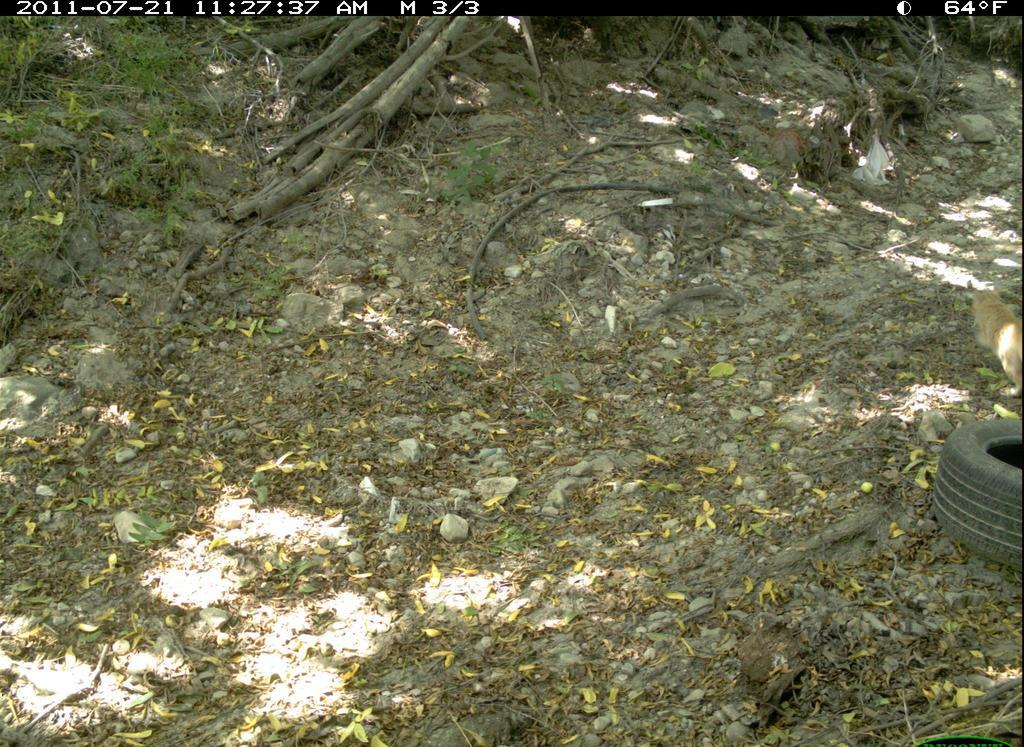cat: (952, 265, 1023, 401)
